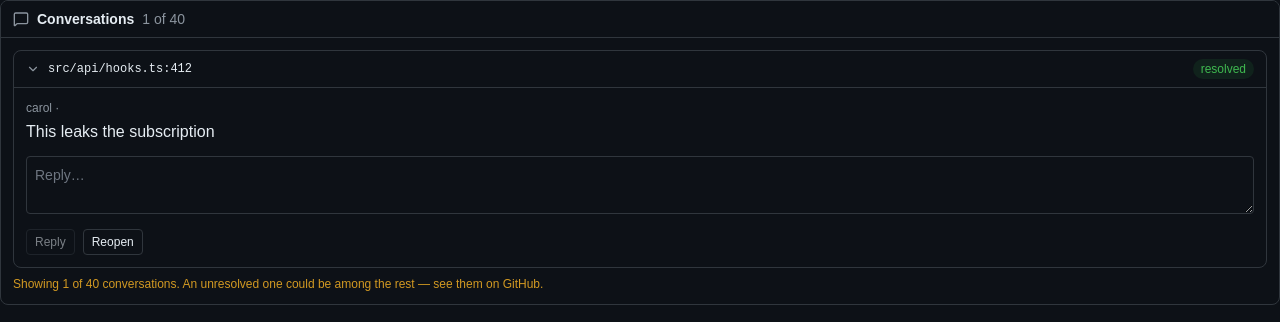
Test case: ReviewThreads › lets a force-opened conversation still be collapsed
The width and height of the screenshot is (1280, 322).
Click the button "src/api/hooks.ts:412 resolved" at (120, 69), box [14,51,1266,87]
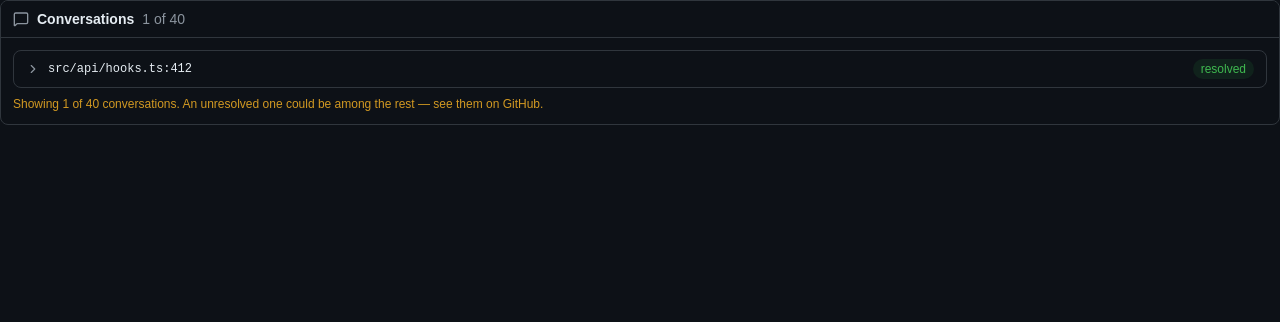
Now the button is collapsed, box [14,51,1266,87]
